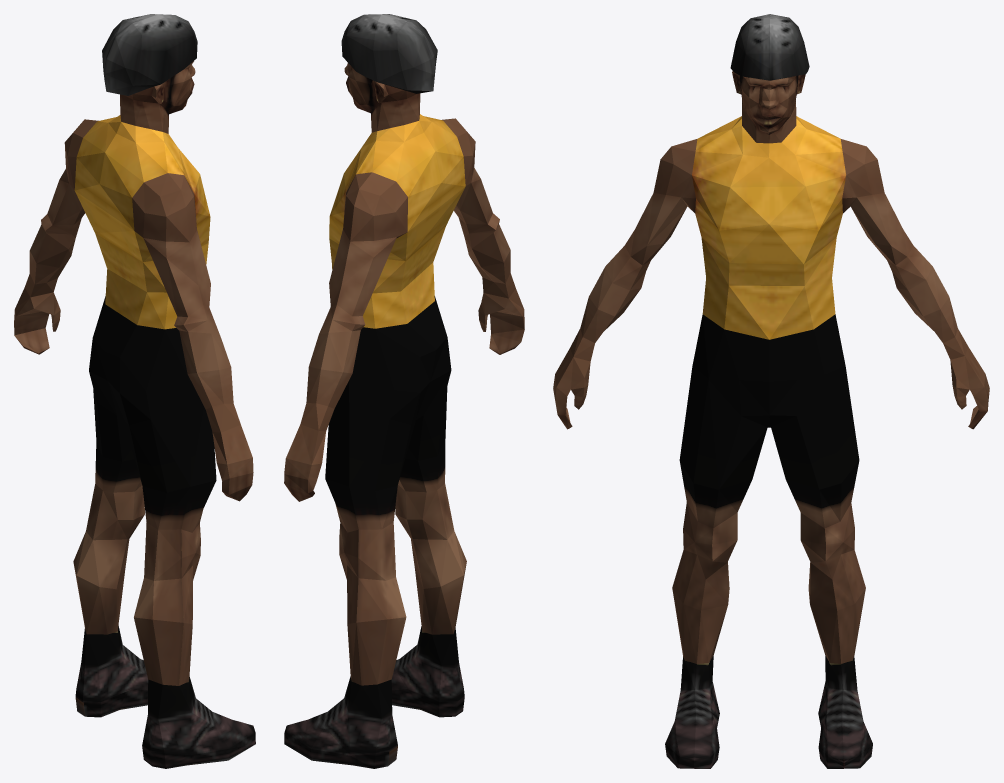
The model's file is bmymoun.obj.
3 views of the same model, side by side, from view 1: azimuth 30°, elevation 25°; view 2: azimuth 150°, elevation 25°; view 3: azimuth 270°, elevation 25° (orthographic).
Parts seen in each view (by area): view 1: _Pelvis; view 2: _Pelvis; view 3: _Pelvis.
Boxes of the visible parts, left/top/right/bottom form: _Pelvis: left=14, top=14, right=255, bottom=768; _Pelvis: left=284, top=14, right=524, bottom=768; _Pelvis: left=553, top=14, right=989, bottom=768.
Bounding box in the file's own units: 0.3277 × 1.87 × 1.02.
Materials: 1 (1 with a texture image).
